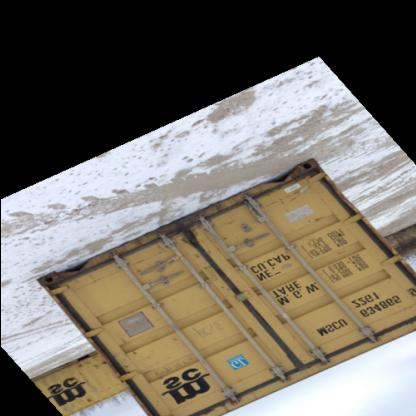Damage: (216, 157, 322, 203), (42, 244, 118, 290), (110, 227, 170, 263), (169, 228, 215, 258)
